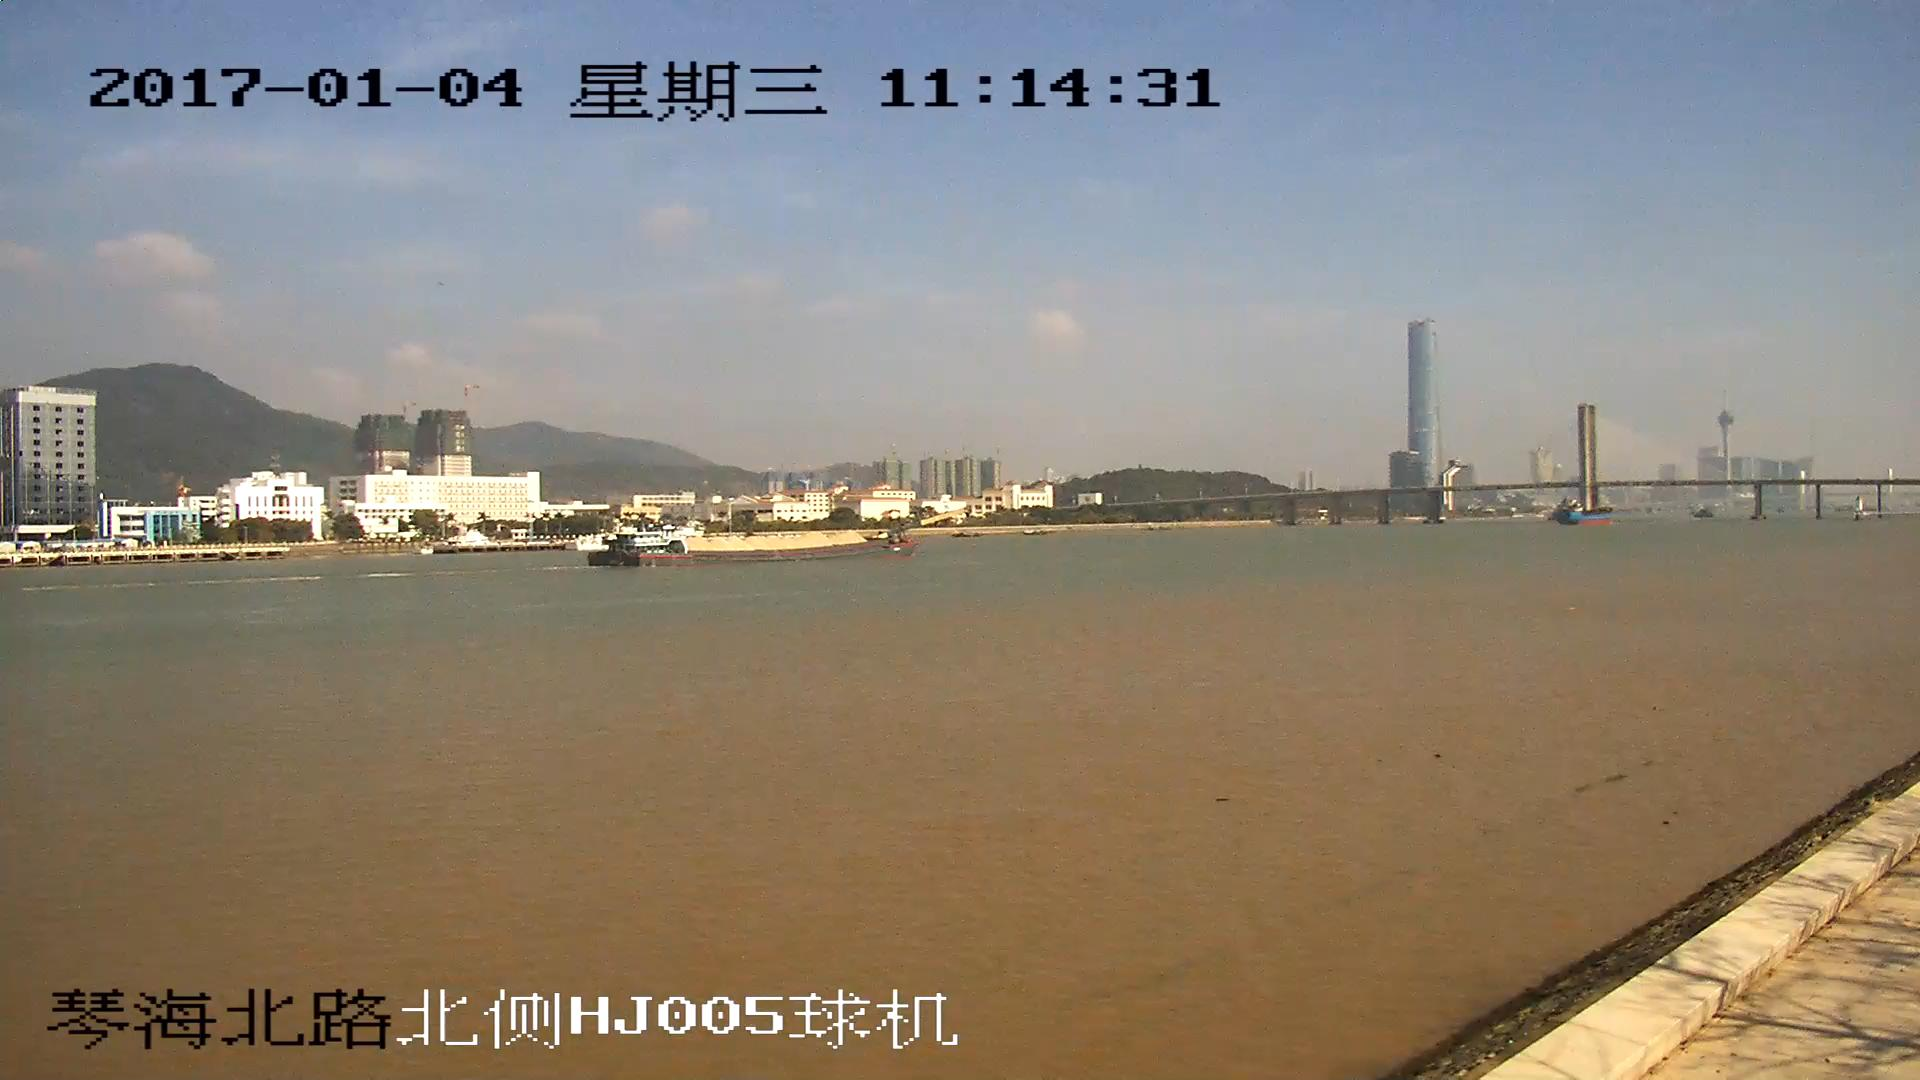ore carrier: (592, 511, 971, 568)
